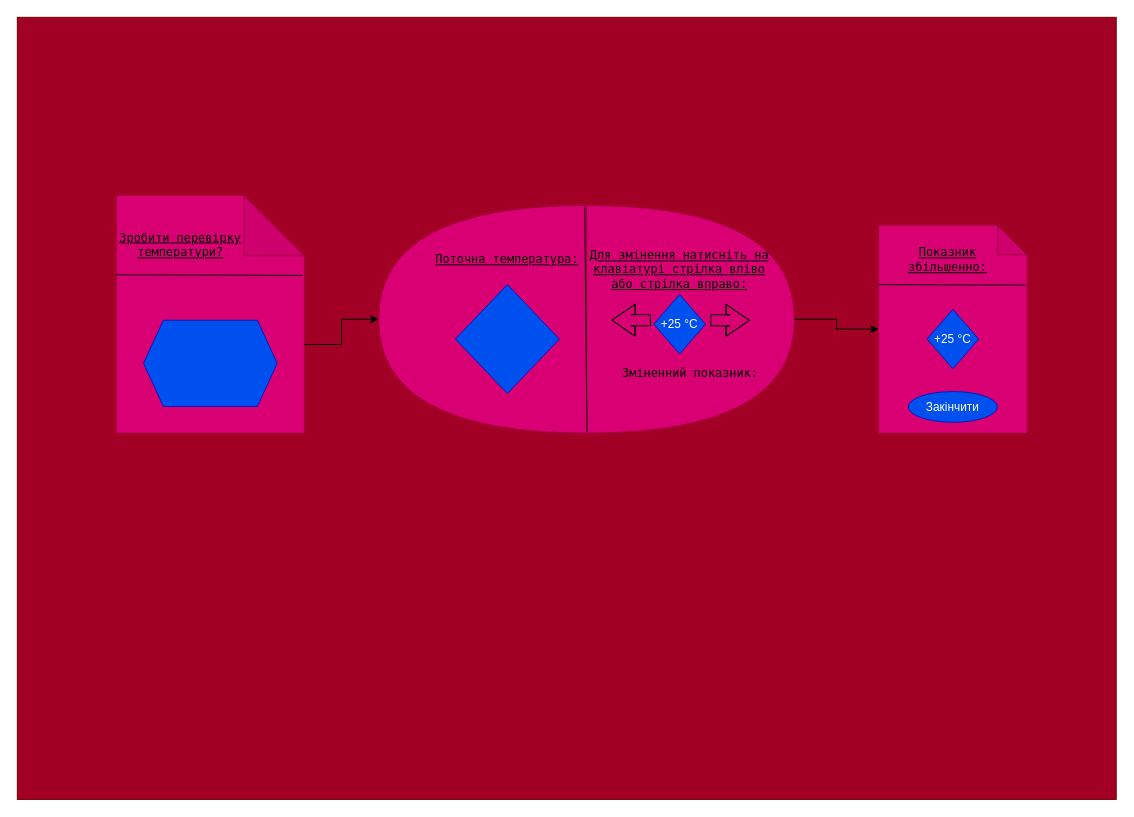
Some shapes in this 1134 by 817 pixel diagram are drawn without their labels. Here are the shapes that lost their labels. From the top down, the box of each, then its label:
(454, 284, 559, 394): +17 °C
(143, 319, 277, 406): Почати перевірку.
